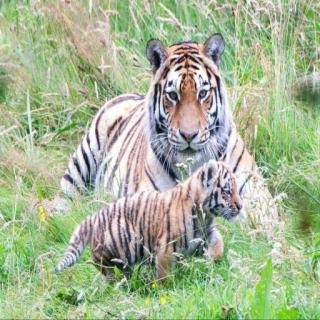Tiger: (69, 34, 297, 233), (60, 155, 267, 278)
